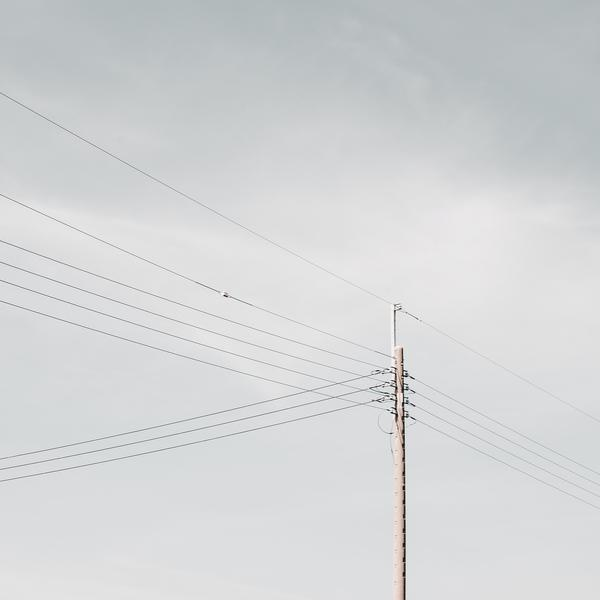utility_pole: (370, 299, 423, 447)
